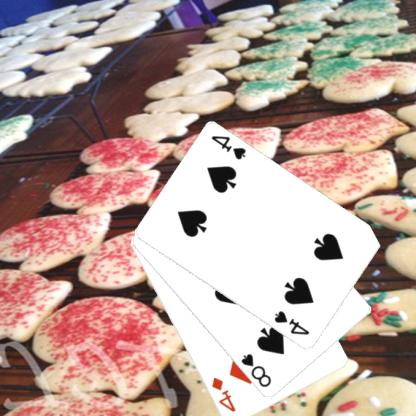4D: (210, 375, 238, 414)
4S: (273, 308, 313, 337), (210, 133, 250, 162)
8S: (240, 351, 275, 389)
